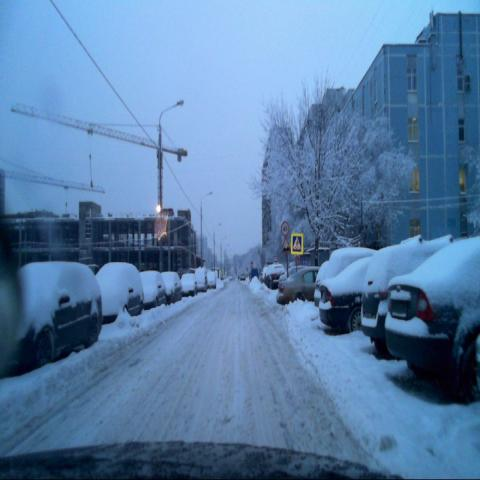1_16: (280, 238, 290, 254)
3_24: (280, 221, 289, 236)
5_19_1: (292, 235, 302, 254), (154, 222, 164, 238)
